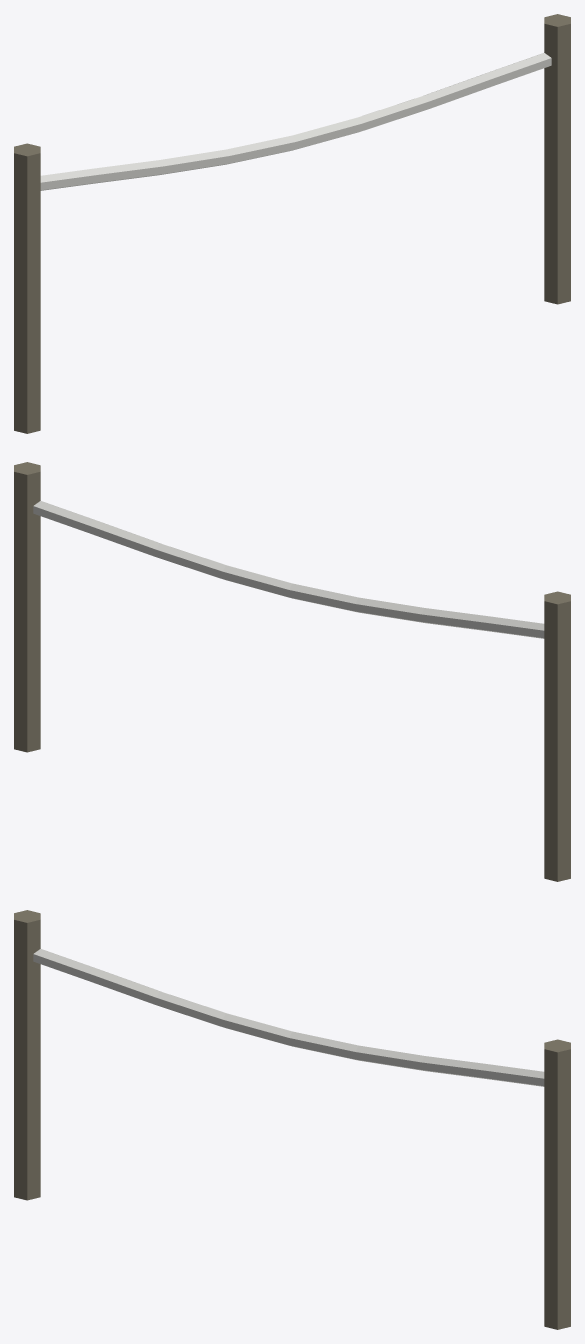
Rendered from Fence.fbx.
3 renders of one model, top to bottom at view 1: azimuth 30°, elevation 25°; view 2: azimuth 150°, elevation 25°; view 3: azimuth 330°, elevation 25°, orthographic.
Parts seen in each view (by area): view 1: Fence; view 2: Fence; view 3: Fence.
Boxes of the visible parts, x1,y1,x2,y2 form: Fence: (14, 14, 570, 433); Fence: (14, 462, 570, 881); Fence: (14, 910, 570, 1329).
Size of the model in its own units: 2.1 by 1 by 0.0866.
